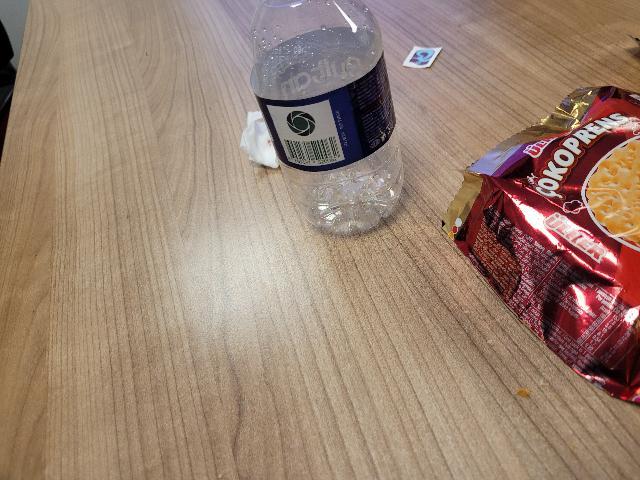Kagit: (221, 108, 280, 177), (395, 36, 449, 74)
Plastik: (440, 83, 640, 425), (241, 0, 418, 245)
